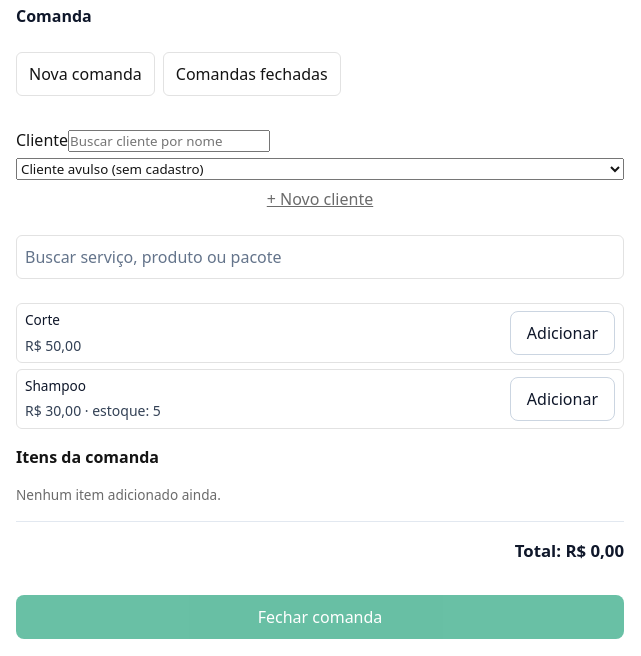
Test: ComandaPage › disables the tip field and rejects a discount larger than the subtotal
Expected: the text "Shampoo" is shown, [25,376,86,395]
Click the button "Adicionar" in the row of "Shampoo": (562, 399) [510,377,615,421]
(page scrolled)
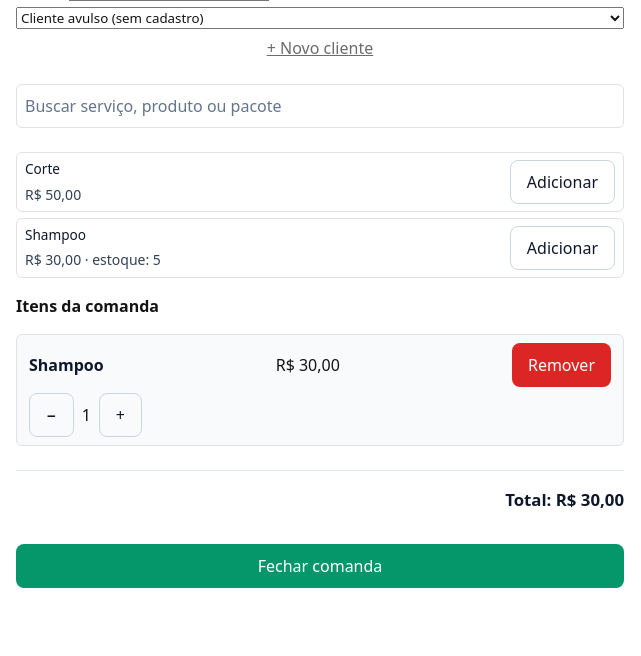
Click the button "Fechar comanda": (320, 566) [16,544,624,588]
(page scrolled)
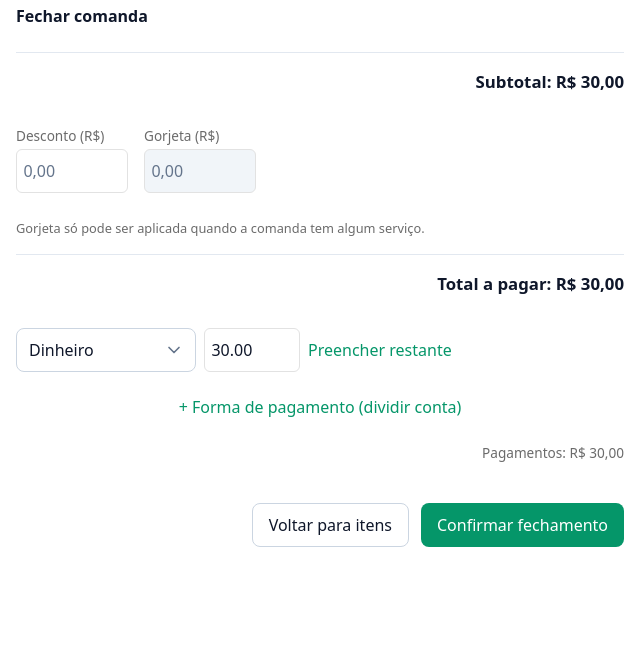
Expected: the field labelled "Gorjeta (R$)" is disabled, [144,149,256,193]
Expected: the text "Gorjeta só pode ser aplicada" is shown, [16,219,425,237]
In the field labelled "Desconto (R$)": (72, 171) [16,149,128,193], type "999,00"
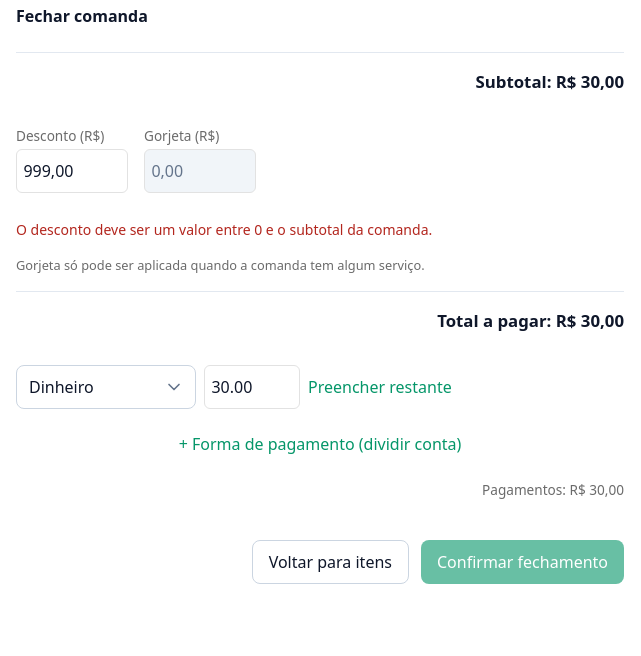
Expected: the text "O desconto deve ser um valor entre 0 e o subtotal da comanda." is shown, [16,220,432,239]
Expected: the button "Confirmar fechamento" is disabled, [421,540,624,584]
